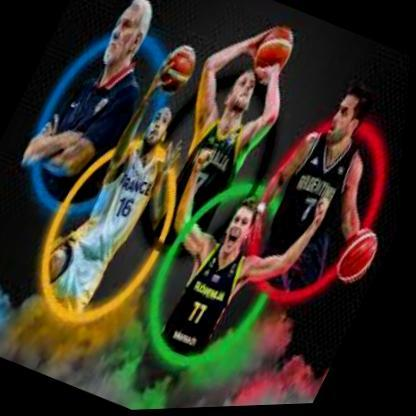basketball: (329, 224, 390, 298), (246, 19, 305, 88), (154, 41, 202, 98)
